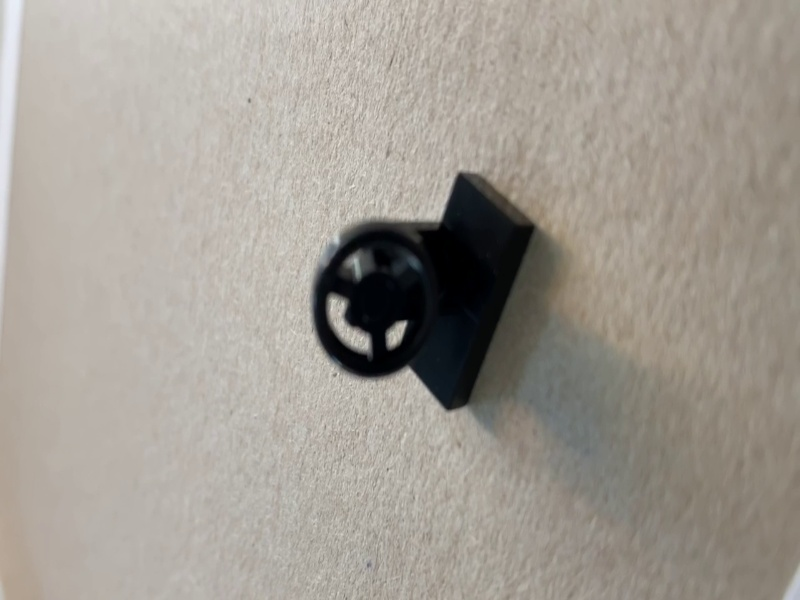steering wheel: (314, 170, 537, 410)
